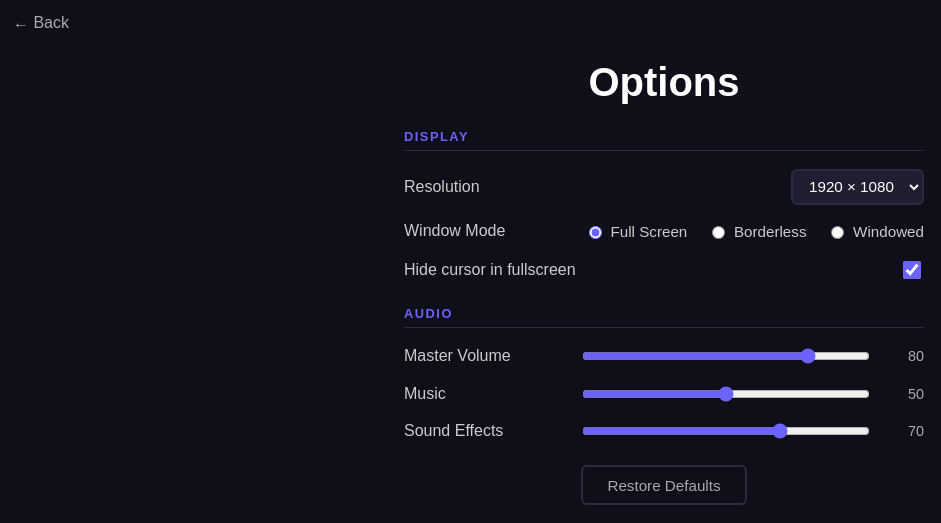
Restore Defaults › re-checks Full Screen after restore
The width and height of the screenshot is (941, 523).
Click the radio button labelled "Windowed".
click(838, 233)  # box [832,226,844,239]
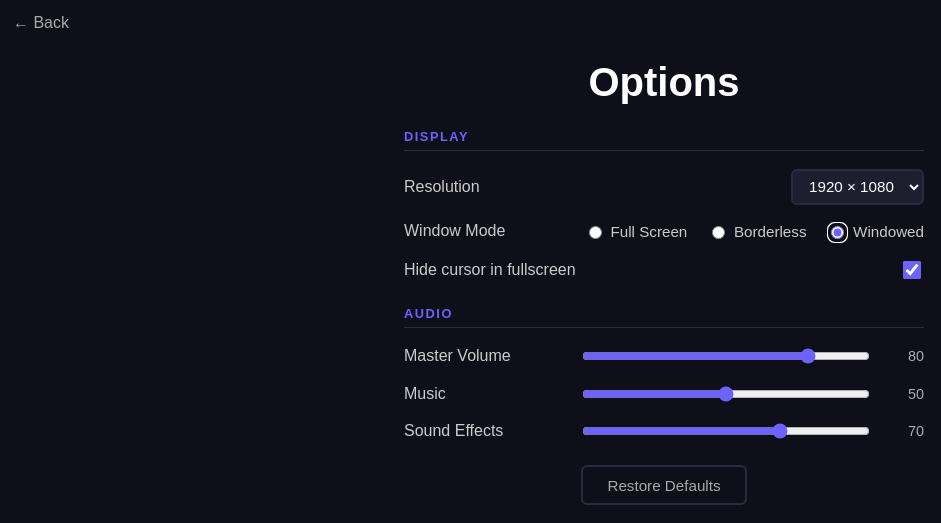
Click the button "Restore Defaults".
click(664, 485)  # box [581,465,746,505]
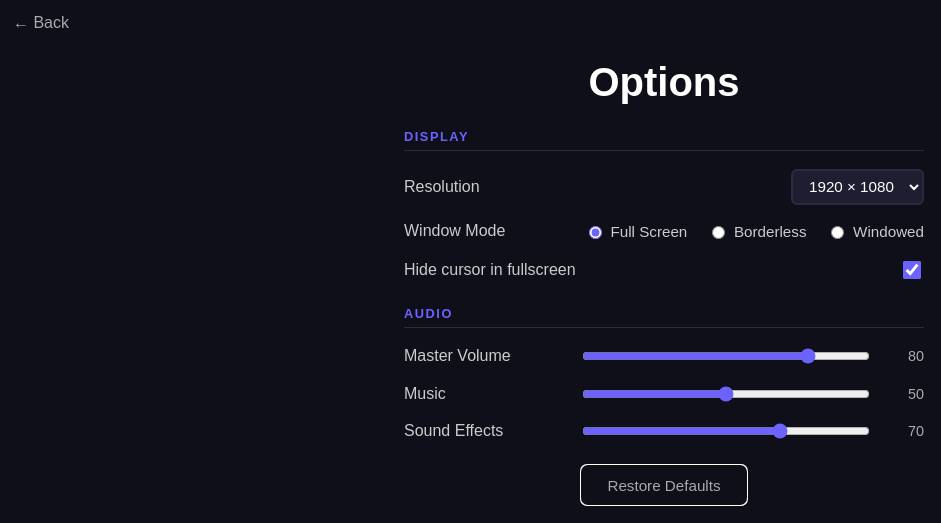
Expected: the radio button labelled "Full Screen" is checked, [589,226,602,239]
